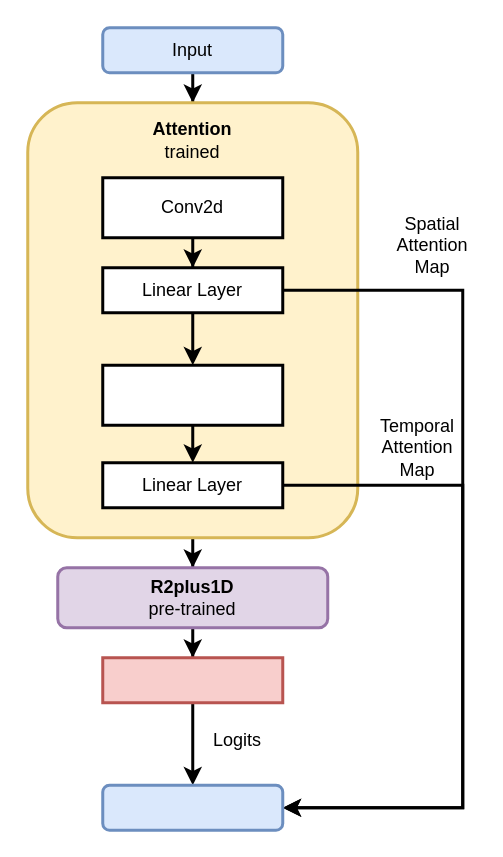
The diagram is 503 pixels wide and 857 high, and some of its shapes have lost their labels. Here are the shapes that lost their labels. From the top down, the centre of each, then its label:
At (192,394): "Conv1d".
At (192,680): "Classifier".
At (192,807): "Output".
